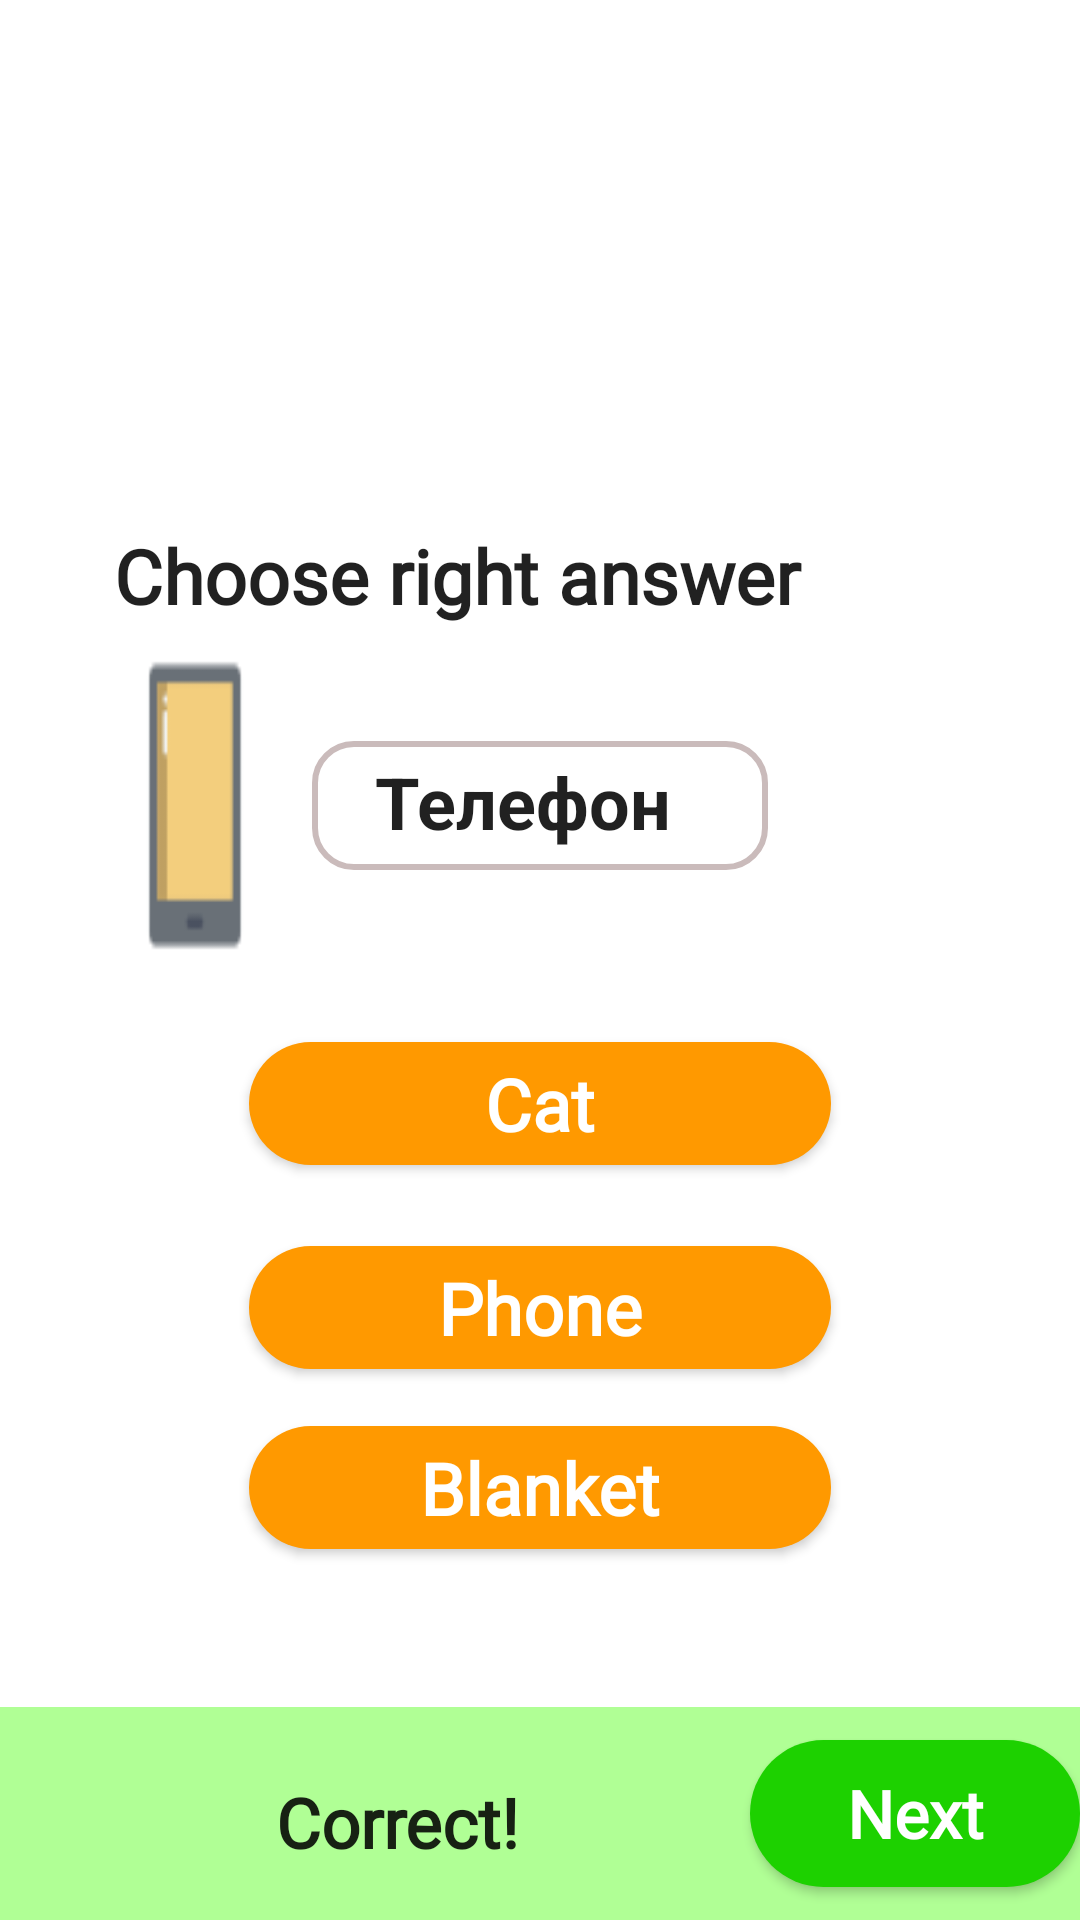

Named icons in this screenshot (1080x1920) and their centers, (x,y):
phone: (195,805)
